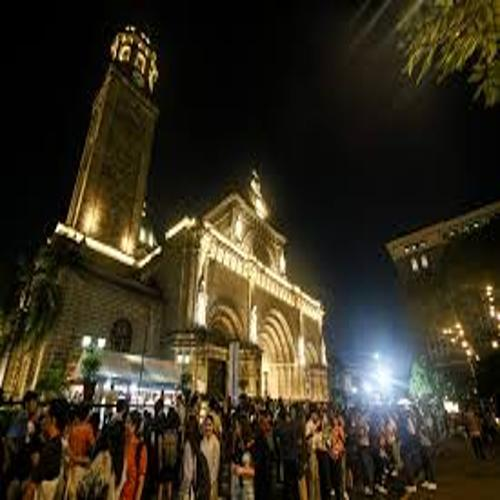Manila Cathedral Church: (19, 7, 358, 437)
